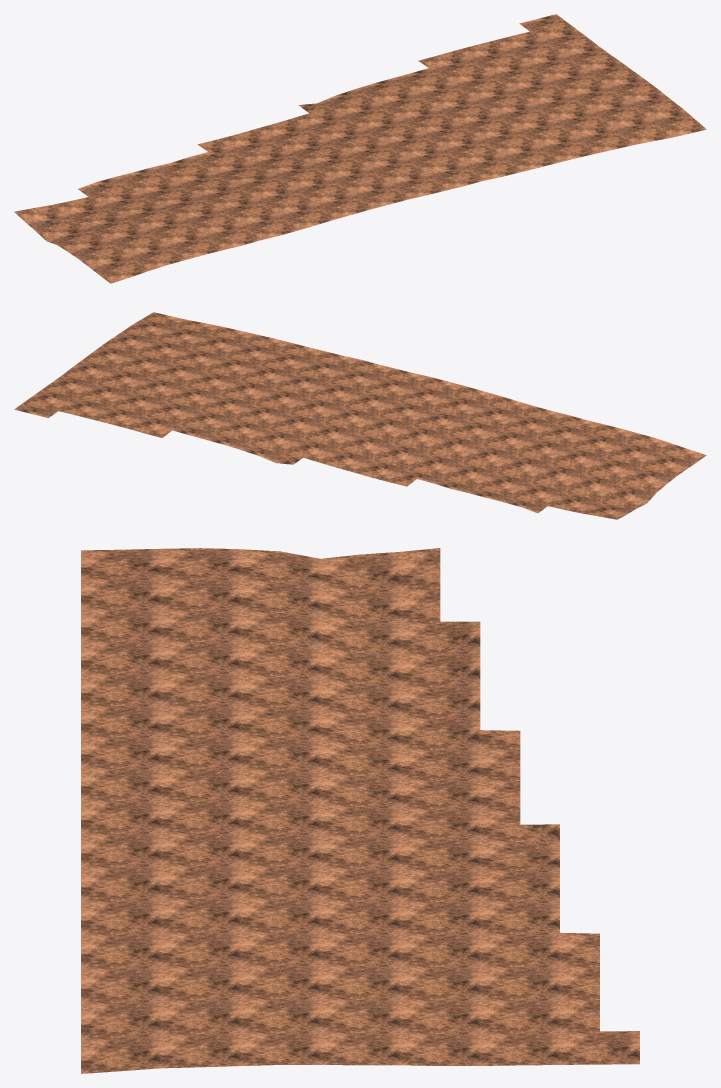
Rendered from terrain_12_16.dae.
3 views of the same model, one above another, from view 1: azimuth 30°, elevation 25°; view 2: azimuth 150°, elevation 25°; view 3: azimuth 270°, elevation 25° (orthographic). The views are drawn at different scales.
Parts seen in each view (by area): view 1: terrain_12_16-node; view 2: terrain_12_16-node; view 3: terrain_12_16-node.
Boxes of the visible parts, x1,y1,x2,y2 form: terrain_12_16-node: (14,14,706,283); terrain_12_16-node: (14,312,706,519); terrain_12_16-node: (81,548,639,1073).
Size of the model in its own units: 128 by 56 by 3.82.
Materials: 1 (1 with a texture image).
